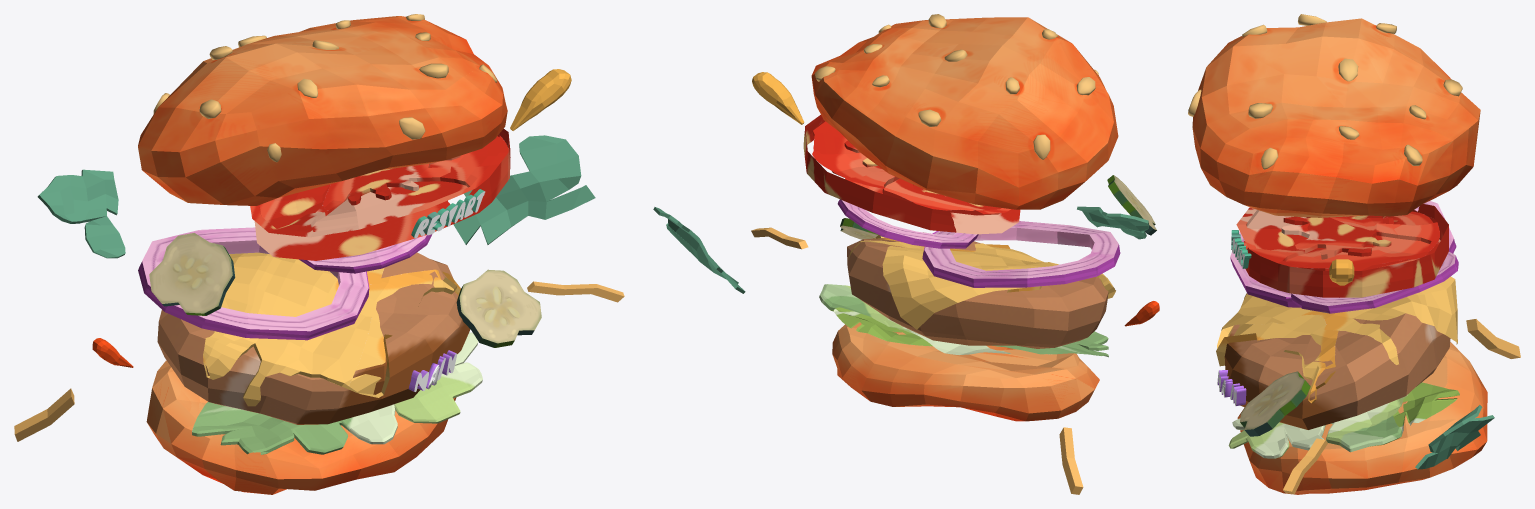
File: restart.fbx
3 views of the same model, side by side, from view 1: azimuth 30°, elevation 25°; view 2: azimuth 150°, elevation 25°; view 3: azimuth 270°, elevation 25° (orthographic). The views are drawn at different scales.
Parts seen in each view (by area): view 1: 01_T번, 06_패티, 03_토마토, 05_패티치즈, 08_b번, PICKLE, 07_양상추, 04_양파_01, LETTUCE__01, LETTUCE_02, Cube_003, Cube (+3 smaller); view 2: 01_T번, 08_b번, 06_패티, 03_토마토, 05_패티치즈, 04_양파_01, 07_양상추, Cube_003, 04_양파_02, Cube, POTATO, PICKLE (+2 smaller); view 3: 01_T번, 03_토마토, 06_패티, 08_b번, 05_패티치즈, 07_양상추, Cube_003, PICKLE, 04_양파_02, POTATO, LETTUCE__01, 04_양파_01 (+2 smaller).
Part boxes in pixels (box(x1,y1,x2,y2)): 01_T번: box(138, 16, 507, 205); 06_패티: box(157, 252, 470, 424); 03_토마토: box(250, 128, 510, 260); 05_패티치즈: box(203, 252, 460, 406); 08_b번: box(146, 360, 456, 494); PICKLE: box(149, 233, 541, 347); 07_양상추: box(192, 332, 482, 454); 04_양파_01: box(138, 227, 369, 340); LETTUCE__01: box(453, 135, 595, 244); LETTUCE_02: box(37, 169, 125, 258); Cube_003: box(153, 14, 497, 162); Cube: box(92, 69, 571, 367); 01_T번: box(811, 17, 1118, 209); 08_b번: box(832, 322, 1099, 421); 06_패티: box(847, 232, 1108, 348); 03_토마토: box(803, 115, 1020, 234); 05_패티치즈: box(848, 235, 1115, 329); 04_양파_01: box(922, 221, 1120, 287); 07_양상추: box(819, 284, 1108, 357); Cube_003: box(815, 14, 1098, 159); 04_양파_02: box(837, 199, 978, 248); Cube: box(752, 72, 1159, 326); POTATO: box(751, 227, 1083, 494); PICKLE: box(840, 175, 1156, 239); 01_T번: box(1192, 18, 1480, 217); 03_토마토: box(1236, 204, 1448, 297); 06_패티: box(1224, 313, 1450, 429); 08_b번: box(1237, 342, 1487, 494); 05_패티치즈: box(1216, 276, 1457, 403); 07_양상추: box(1228, 382, 1459, 458); Cube_003: box(1188, 14, 1462, 169); PICKLE: box(1240, 371, 1310, 436); 04_양파_02: box(1291, 252, 1458, 313); POTATO: box(1283, 319, 1520, 494); LETTUCE__01: box(1415, 405, 1494, 469); 04_양파_01: box(1230, 201, 1456, 307).
Size of the model in its own units: 696 by 493 by 358.
